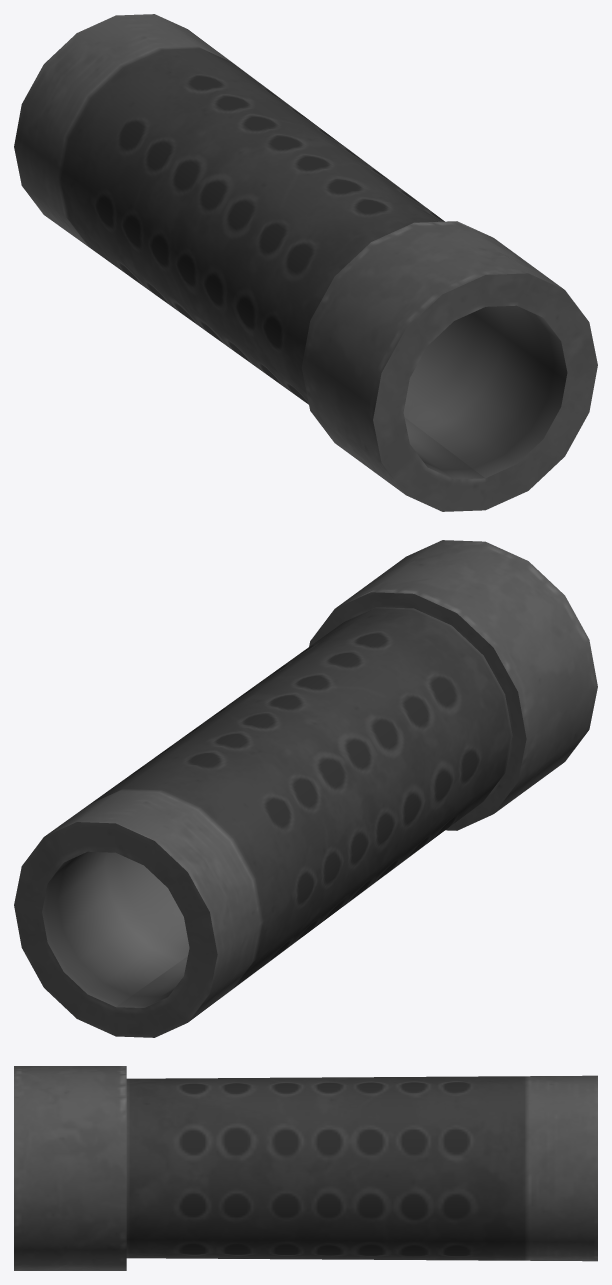
Rendered from IG_Acc_Muzzle_SNP_DIS_1.fbx.
3 renders of one model, top to bottom at view 1: azimuth 30°, elevation 25°; view 2: azimuth 150°, elevation 25°; view 3: azimuth 270°, elevation 25°, orthographic. The views are drawn at different scales.
Parts seen in each view (by area): view 1: Muzzle_SNP_DIS_1; view 2: Muzzle_SNP_DIS_1; view 3: Muzzle_SNP_DIS_1.
Part boxes in pixels (box(x1,y1,x2,y2)): Muzzle_SNP_DIS_1: box(14, 14, 597, 511); Muzzle_SNP_DIS_1: box(14, 540, 597, 1037); Muzzle_SNP_DIS_1: box(14, 1066, 597, 1270).
Size of the model in its own units: 0.0744 by 0.0744 by 0.2118.
